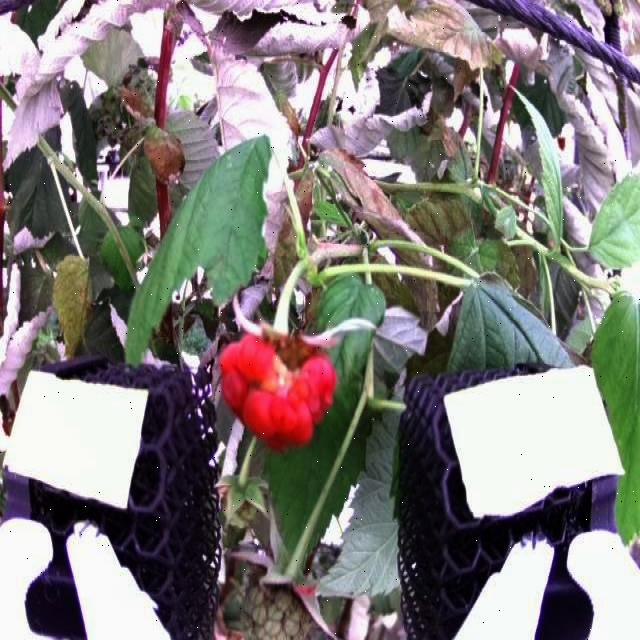Riped berries: (214, 304, 342, 454)
